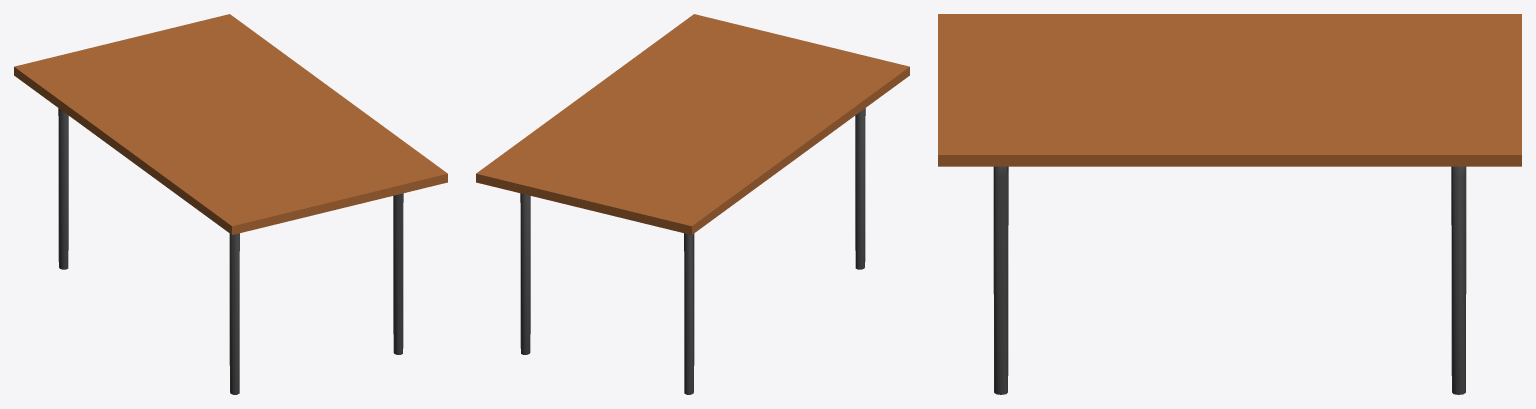
Rendered from Cooking table.fbx.
The picture shows the model from 3 angles, left to right: view 1: azimuth 30°, elevation 25°; view 2: azimuth 150°, elevation 25°; view 3: azimuth 270°, elevation 25°; orthographic projection. The views are drawn at different scales.
Visible parts, largest first — view 1: Plane.002; view 2: Plane.002; view 3: Plane.002.
Part boxes in pixels (x1,y1,x2,y2): Plane.002: [14, 14, 447, 394]; Plane.002: [476, 14, 909, 394]; Plane.002: [938, 14, 1521, 394].
Size of the model in its own units: 104 by 87.34 by 182.
